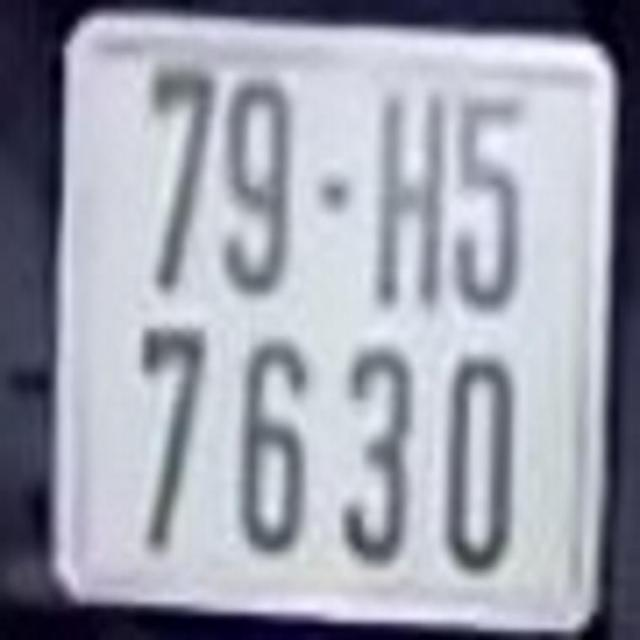0: (447, 352, 516, 564)
3: (348, 346, 412, 572)
5: (461, 93, 518, 310)
6: (244, 338, 304, 556)
7: (140, 314, 204, 549), (150, 66, 213, 292)
9: (221, 78, 291, 290)
H: (378, 85, 445, 306)
